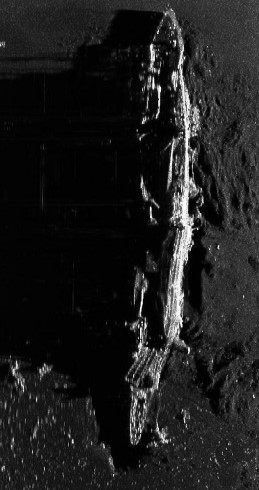ship: (123, 11, 196, 443)
